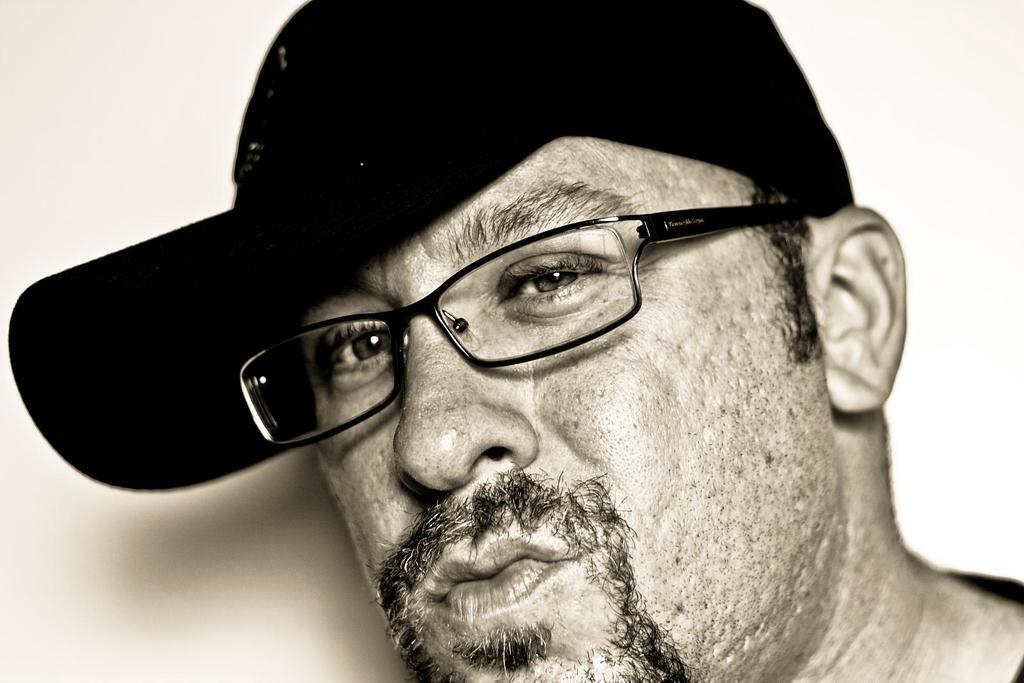Hat: (6, 1, 854, 496)
